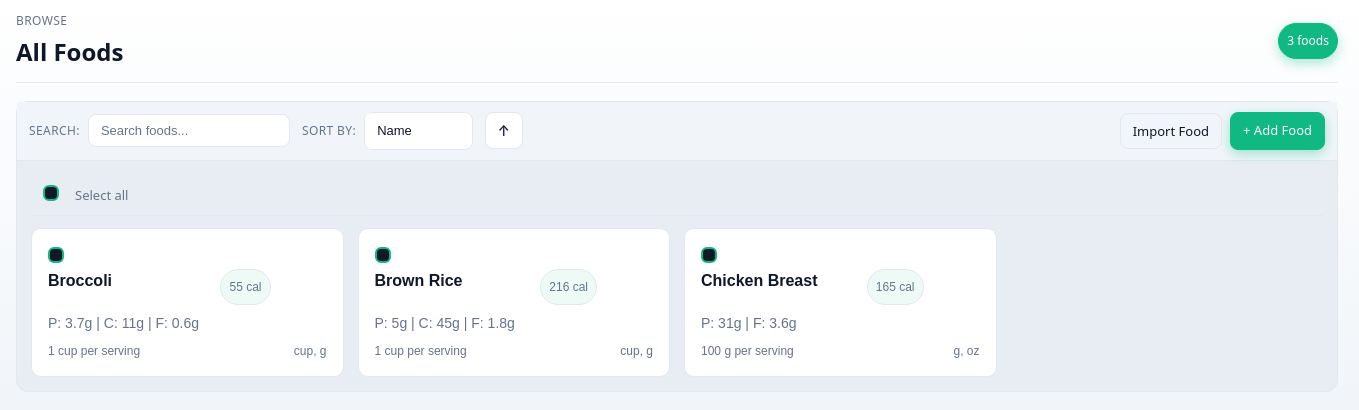
Test: Foods List Page › Selection › deselects all foods when "Select all" is clicked again
Click the 1st checkbox labelled "Select all".
click(86, 196)  # box [43,184,128,206]
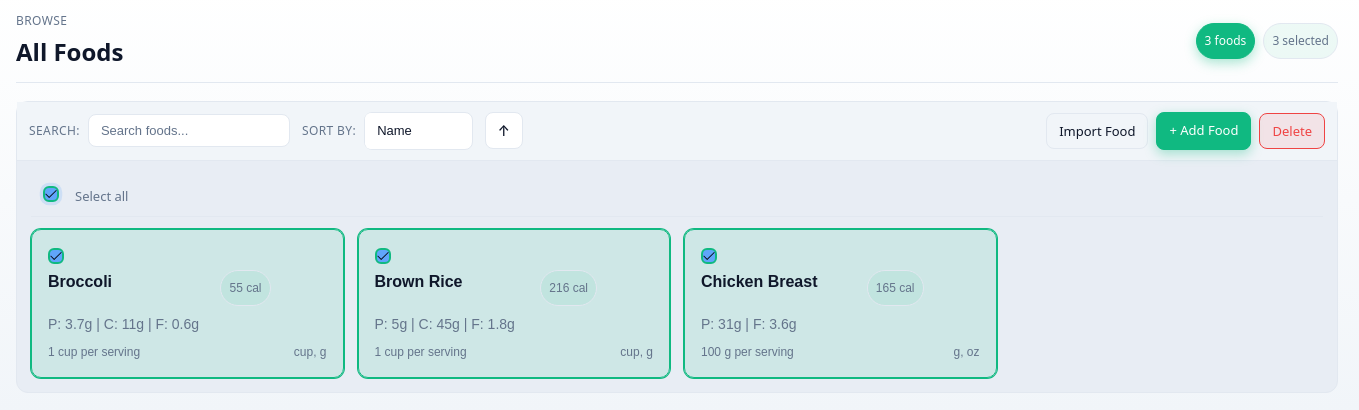
Click the 1st checkbox labelled "Select all".
click(86, 196)  # box [43,186,128,208]
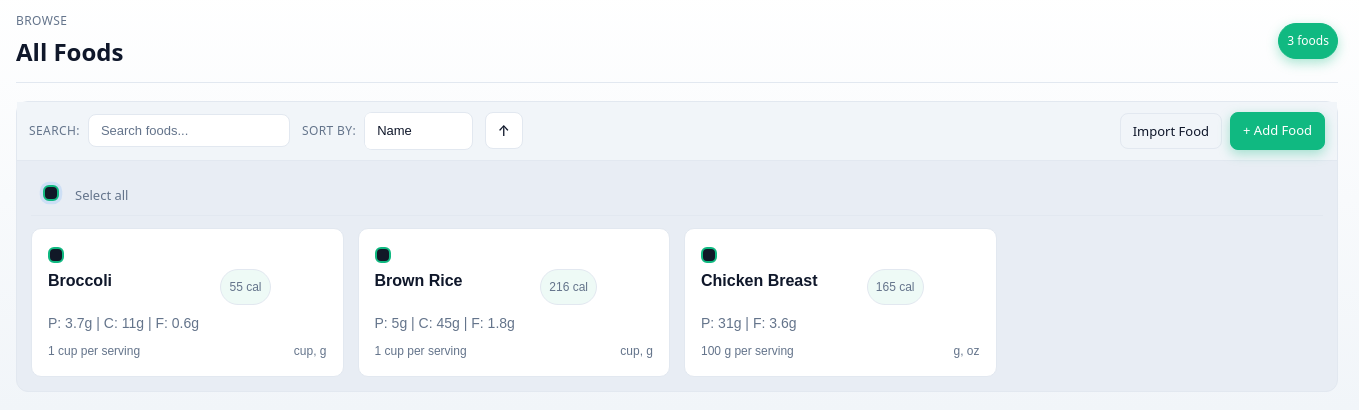
Check: the 1st checkbox labelled "Select all" is not checked, box [43,184,128,206]
Check: the text "selected" is gone
